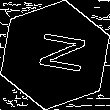N_W: (25, 31, 85, 79)
